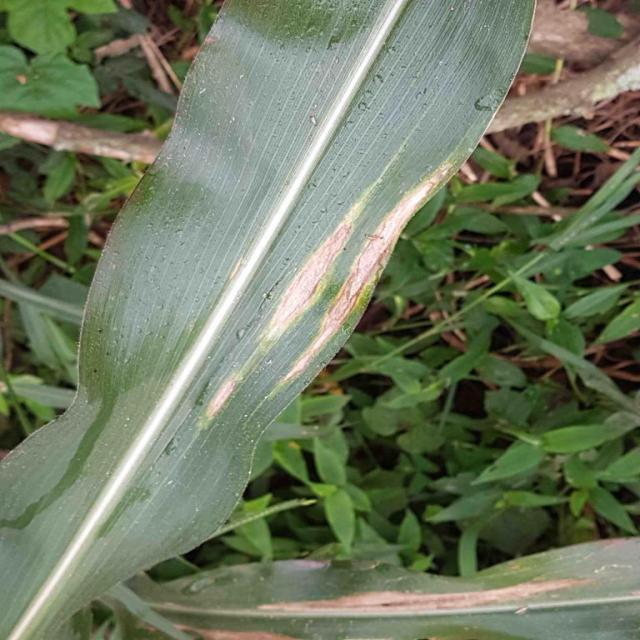blight: (291, 167, 407, 329)
